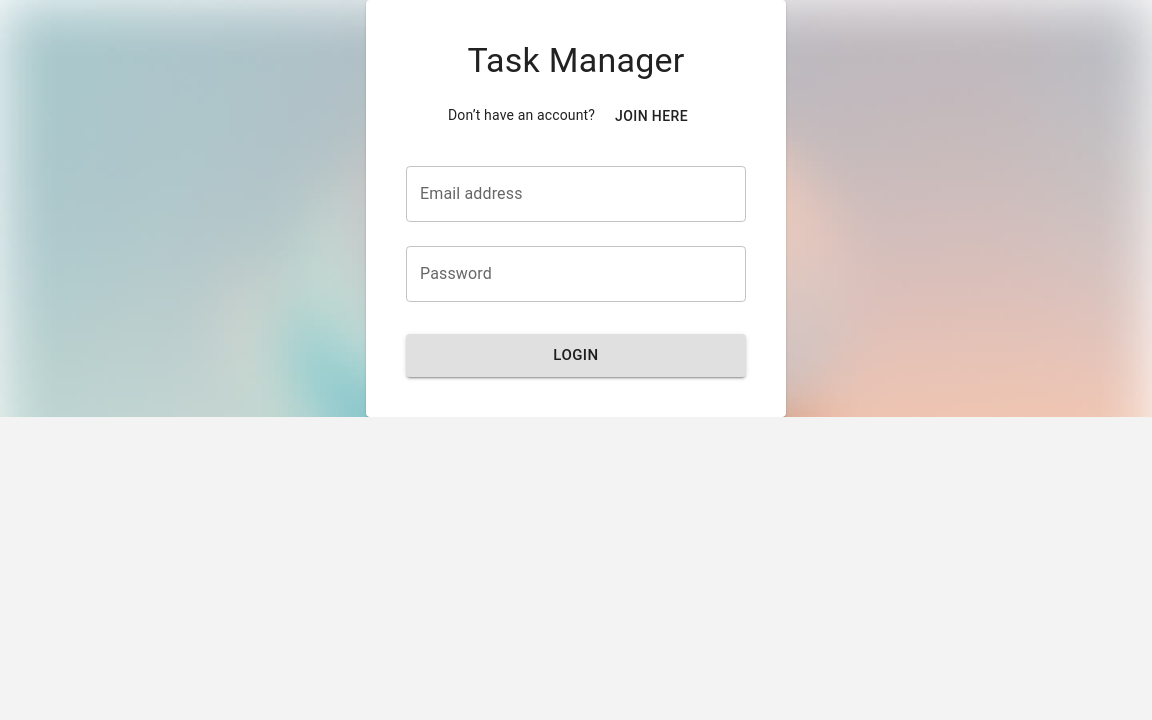
switches to signup form when "Join here" is clicked
Note: Click the "Join here" button
Click the button "Join here" at (652, 116), box x1=599 y1=98 x2=704 y2=134
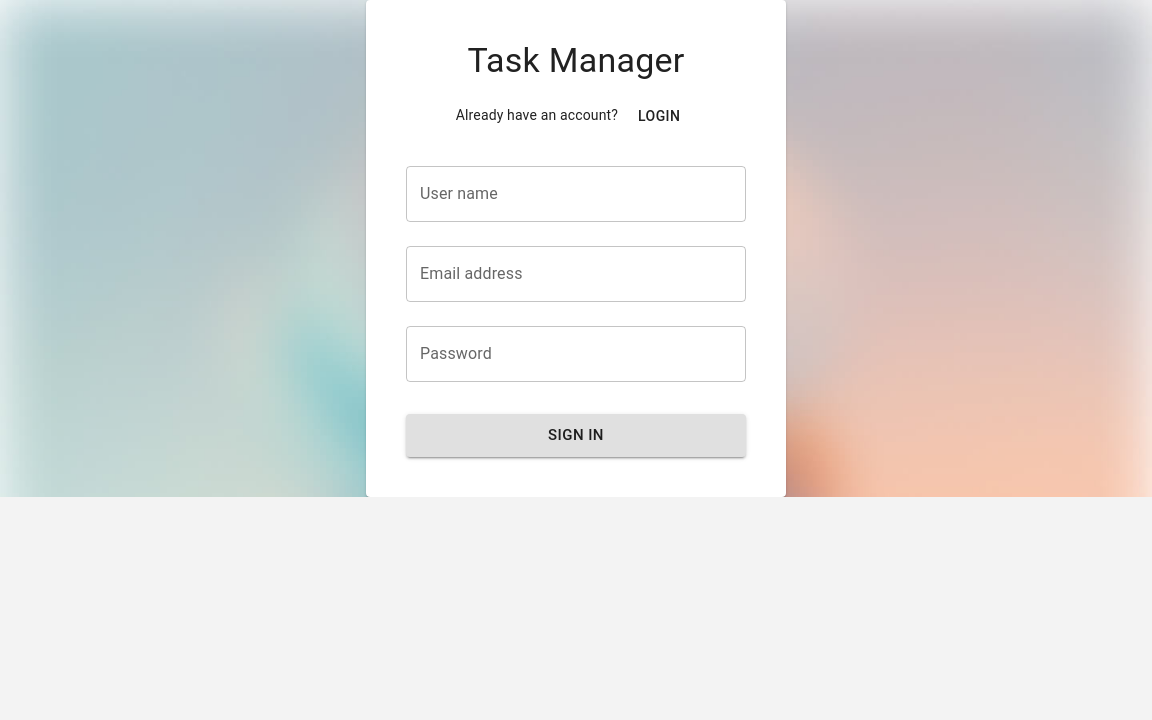
Expected: the field labelled "Email address" is shown, x1=406 y1=246 x2=746 y2=302
Now the field labelled "User name" is shown, box x1=406 y1=166 x2=746 y2=222
Now the button "Sign In" is shown, box x1=406 y1=414 x2=746 y2=457
